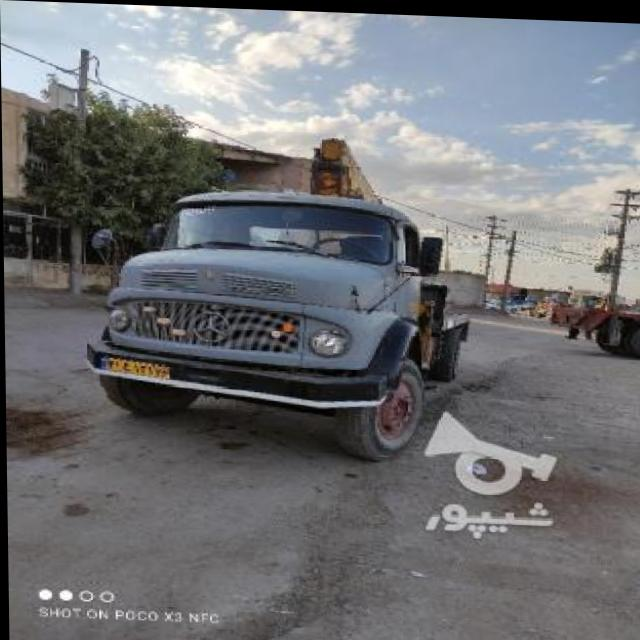licence: (92, 355, 170, 377)
